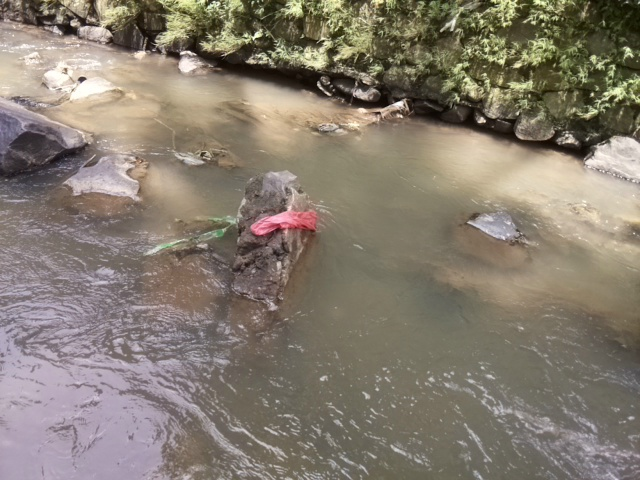Sampah_Plastik: (246, 209, 319, 237)
